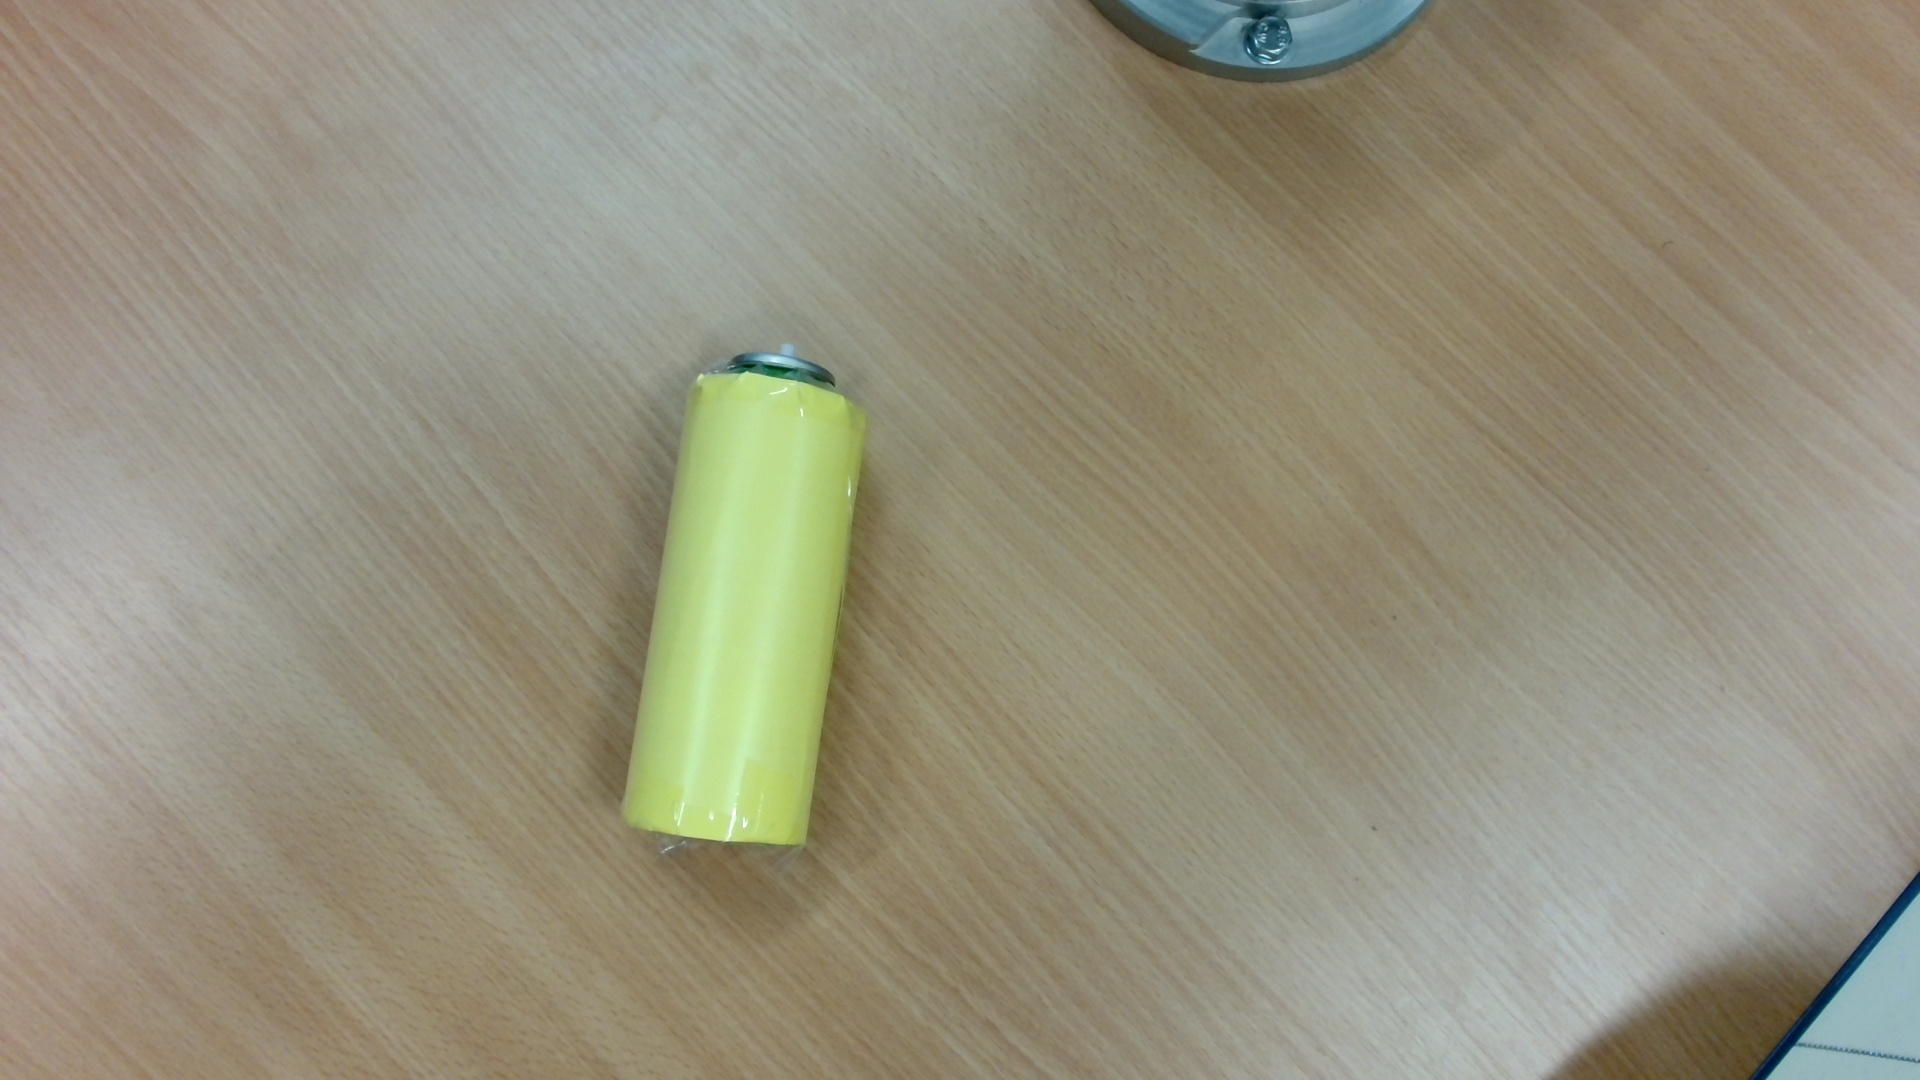Cylinder: (612, 334, 882, 885)
